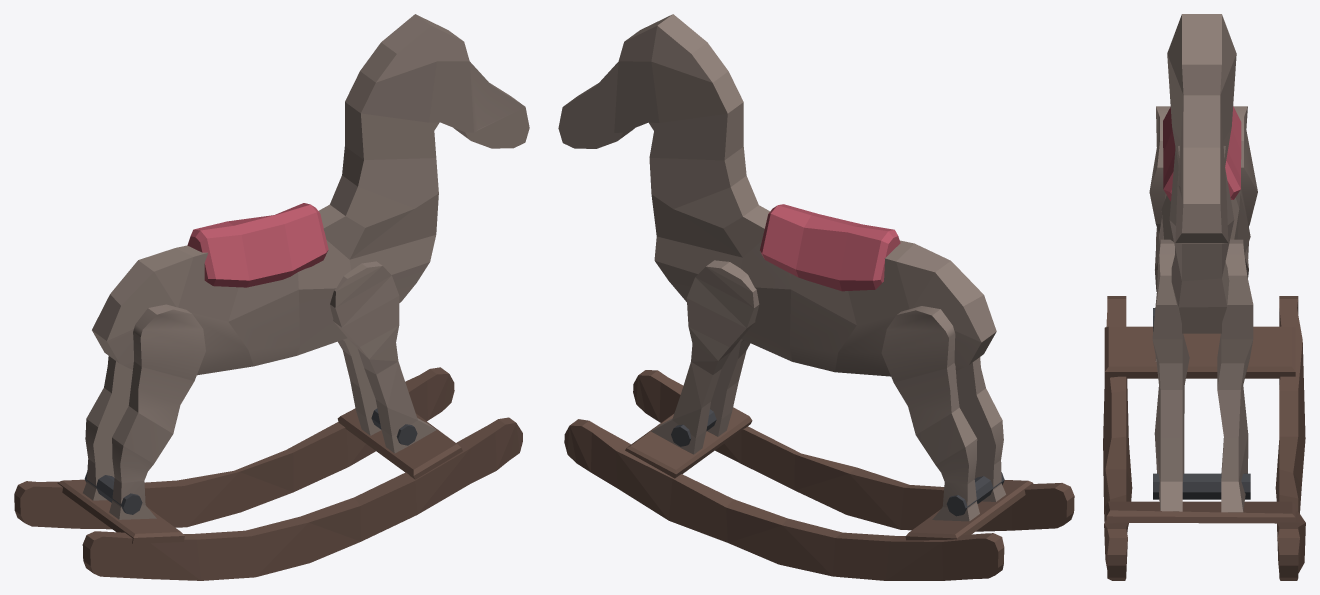
File: horse_player_01.fbx
The picture shows the model from 3 angles, left to right: view 1: azimuth 30°, elevation 25°; view 2: azimuth 150°, elevation 25°; view 3: azimuth 270°, elevation 25°; orthographic projection. The views are drawn at different scales.
Visible parts, largest first — view 1: Cheval1; view 2: Cheval1; view 3: Cheval1.
Boxes of the visible parts, box(x1,y1,x2,y2) form: Cheval1: box(14, 14, 529, 580); Cheval1: box(558, 14, 1074, 580); Cheval1: box(1103, 14, 1305, 580).
Bounding box in the file's own units: 126 × 123 × 37.72.
